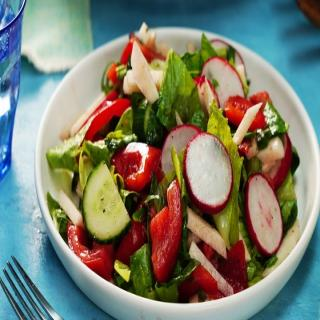salad: (36, 11, 315, 311)
veg: (37, 12, 310, 307)
